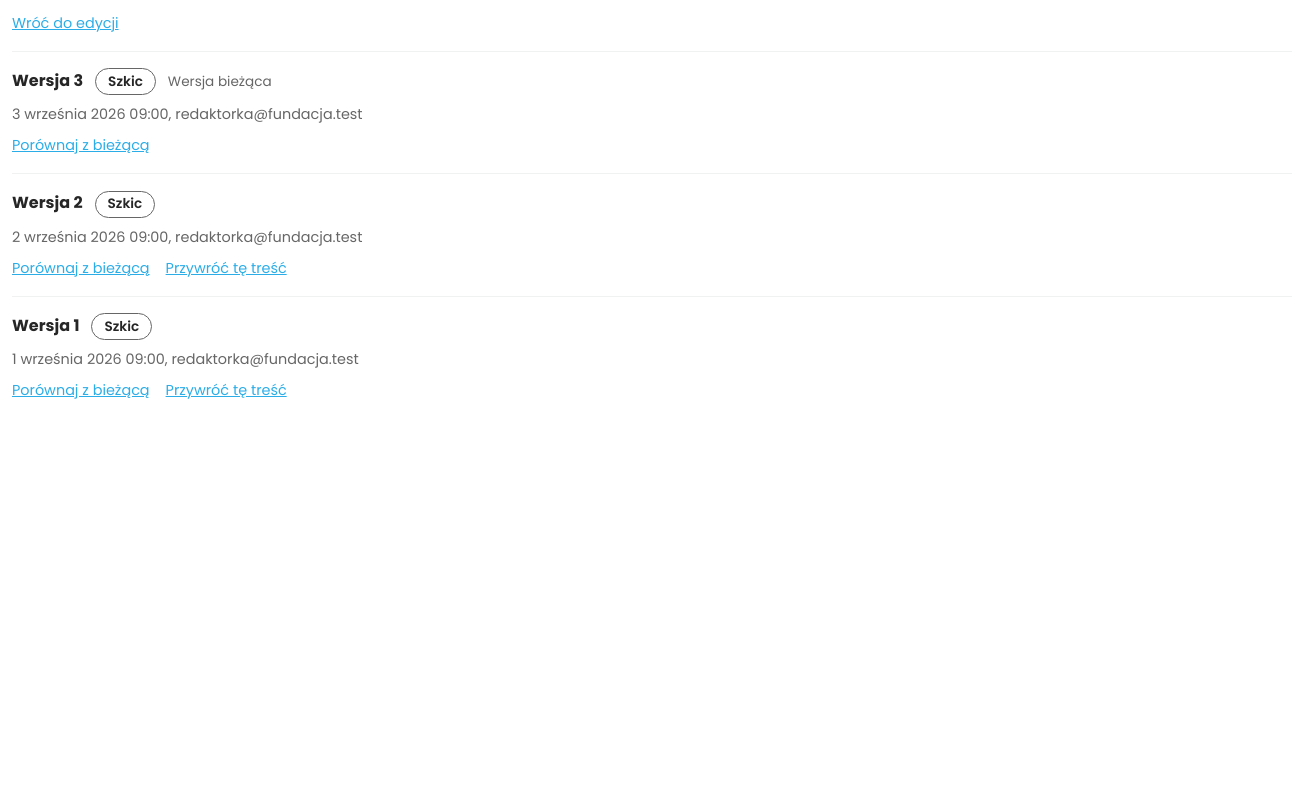
Test: VersionHistory › shows more versions after a restore, never fewer
Expected: the text "Wersja 3" is shown, left=12, top=68, right=83, bottom=94
Click the button "Przywróć tę treść" below "Wersja 1".
click(226, 391)  # box left=166, top=379, right=287, bottom=402
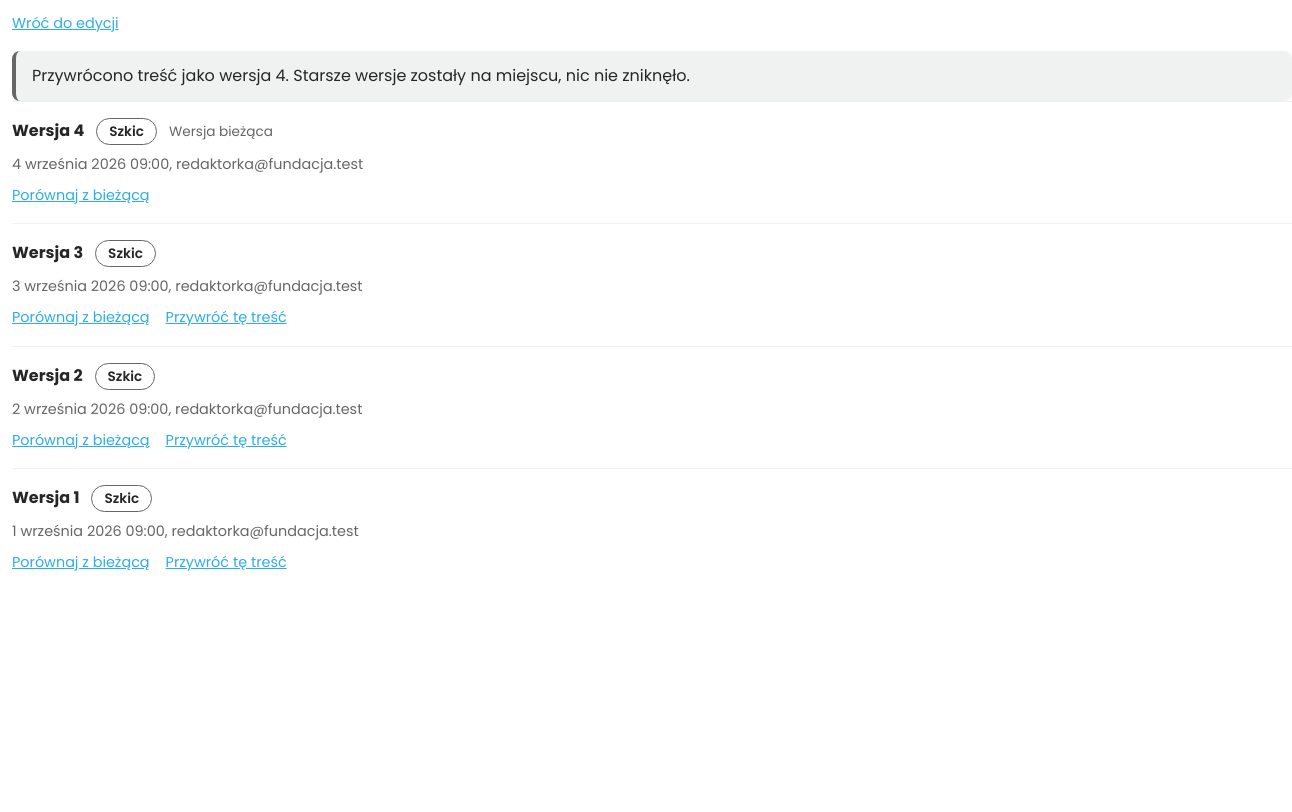
Expected: the text "Wersja 1" is shown, left=12, top=485, right=80, bottom=511
Now the text "Wersja 4" is shown, box left=12, top=118, right=84, bottom=143
Now the text "Przywrócono treść jako wersja 4" is shown, box left=32, top=64, right=690, bottom=87
